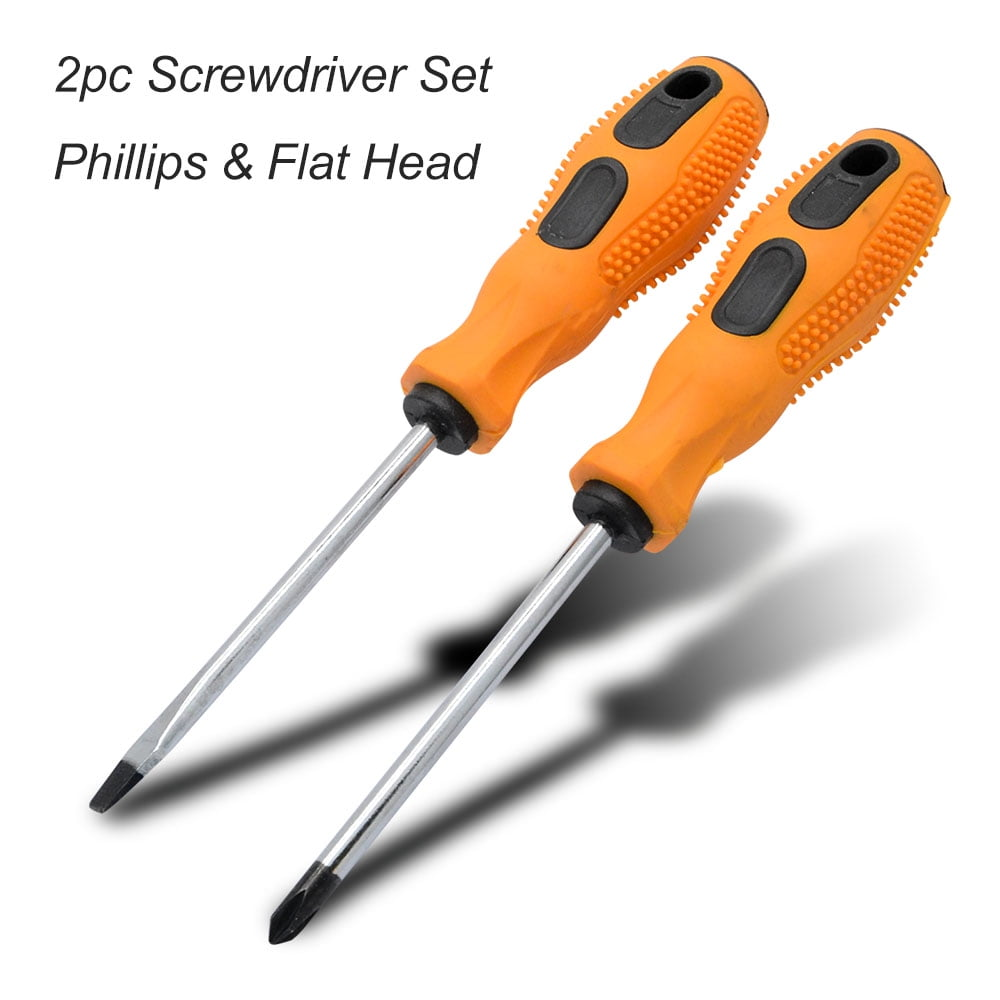screwdriver: (259, 118, 958, 949), (88, 52, 776, 812)
